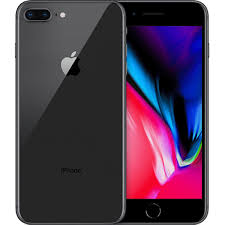iphone: (14, 1, 126, 225)
iphone8: (12, 1, 209, 225)
